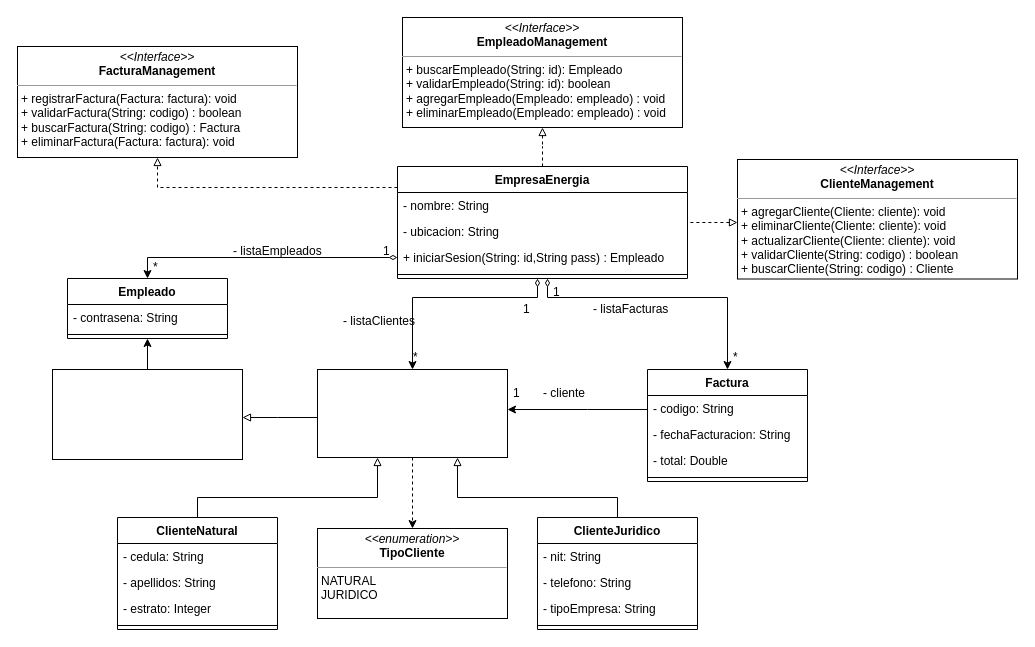
Image size: 1035x647. Some labels were removed from this diagram. The centre of each missing label's shape, as x and y in pixels:
"<<abstract>> Cliente +getTipoCliente() : TipoCliente" goes at point 412,413.
"<<abstract>> Persona - nombre: String - id: String" goes at point 147,414.
